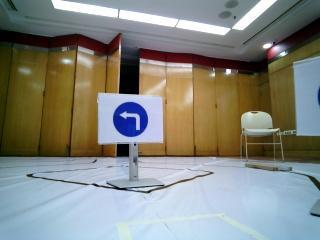left: (100, 95, 161, 143)
